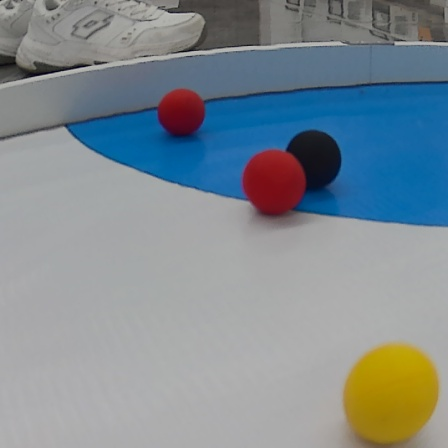black: (284, 129, 344, 193)
blue_base: (59, 77, 448, 228)
red: (239, 148, 307, 219), (155, 86, 206, 138)
yellow: (341, 339, 445, 445)
